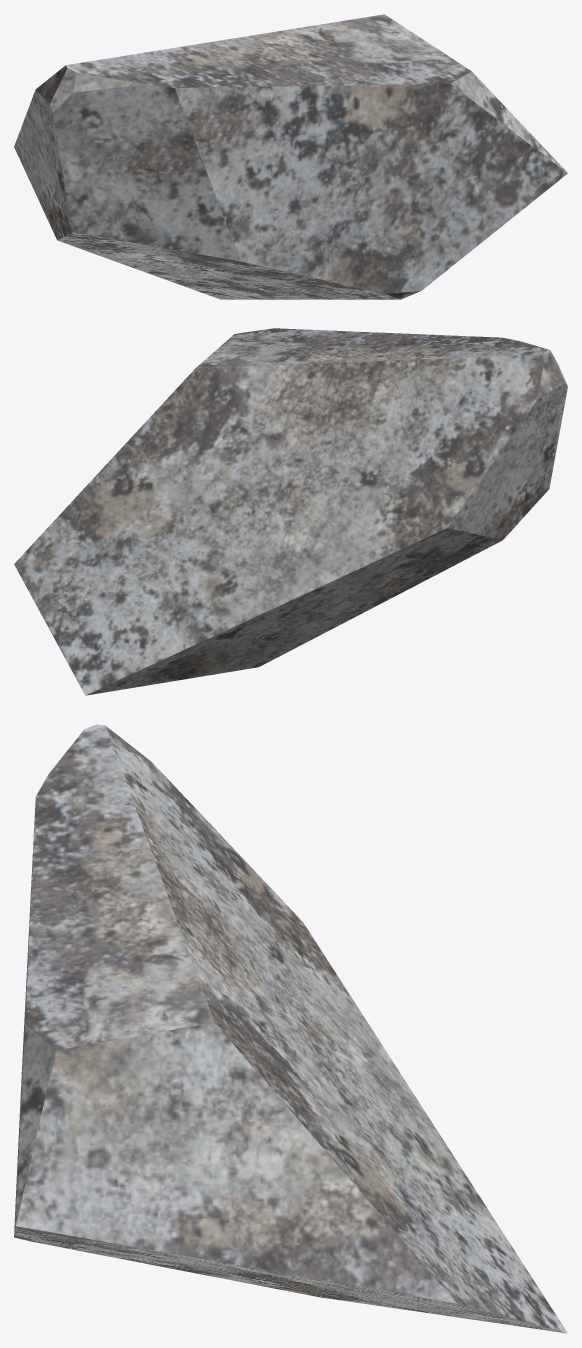
Rendered from Asteroid_Large_001_02_009_03_031.fbx.
3 renders of one model, top to bottom at view 1: azimuth 30°, elevation 25°; view 2: azimuth 150°, elevation 25°; view 3: azimuth 270°, elevation 25°, orthographic. The views are drawn at different scales.
Visible parts, largest first — view 1: Asteroid_Large_001_02_009_03_031; view 2: Asteroid_Large_001_02_009_03_031; view 3: Asteroid_Large_001_02_009_03_031.
Part boxes in pixels (bbox=[...]): Asteroid_Large_001_02_009_03_031: bbox=[14, 14, 567, 299]; Asteroid_Large_001_02_009_03_031: bbox=[14, 328, 567, 695]; Asteroid_Large_001_02_009_03_031: bbox=[14, 724, 567, 1333].
Size of the model in its own units: 13.01 by 9.05 by 10.59.
